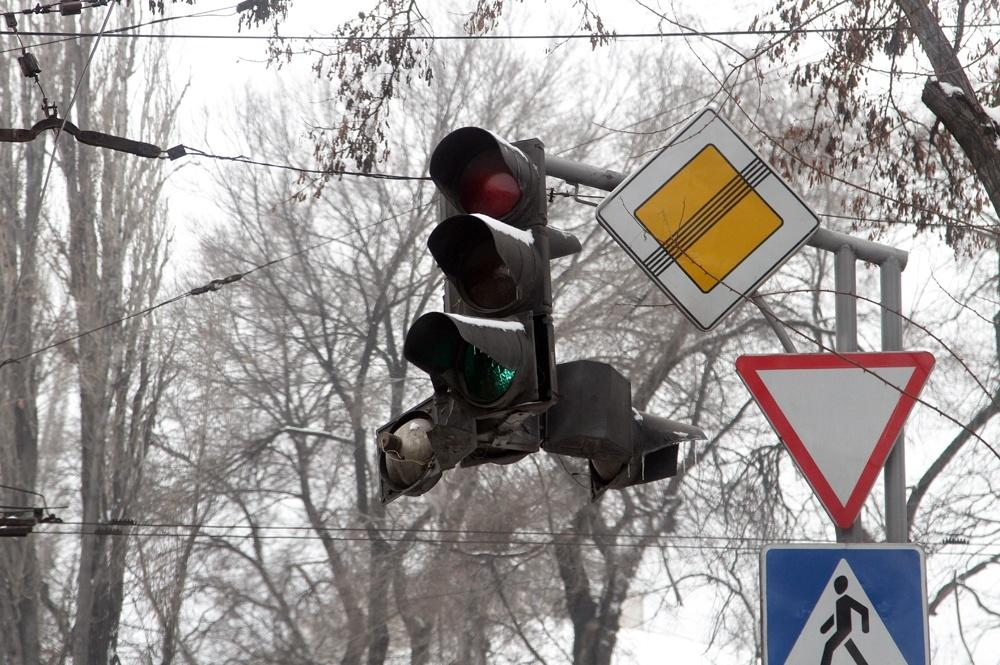off traffic light: (375, 128, 555, 504)
road_sign: (593, 103, 823, 330), (736, 352, 937, 528), (760, 547, 928, 664)
